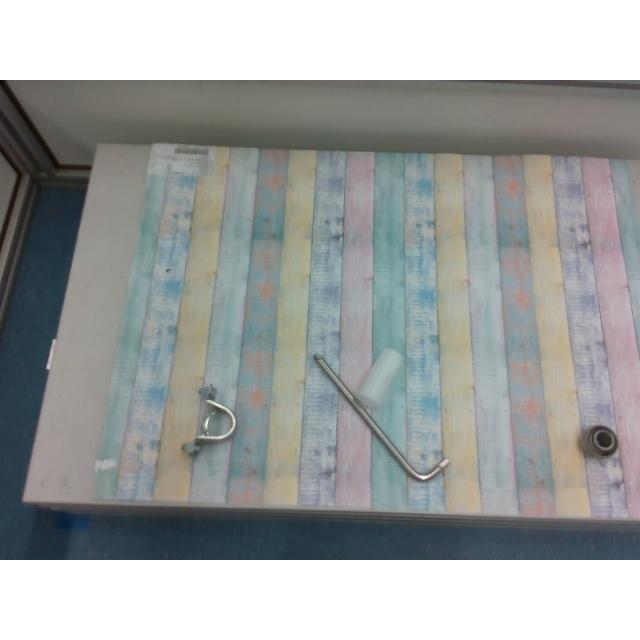AllenKey: (314, 353, 450, 481)
Bearing2: (582, 424, 618, 456)
Housing: (180, 386, 236, 454)
Spacer: (357, 347, 403, 409)
